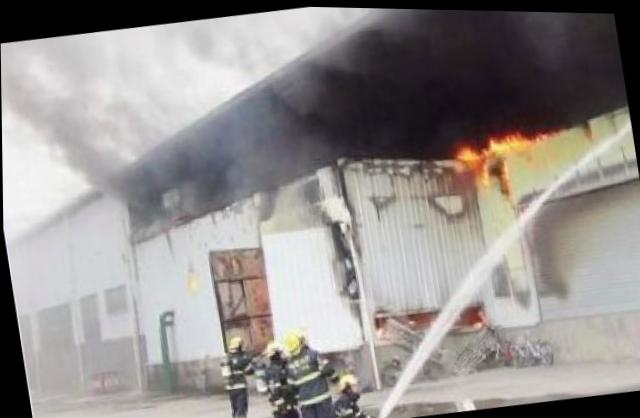fire: (481, 126, 534, 152), (452, 138, 481, 163)
